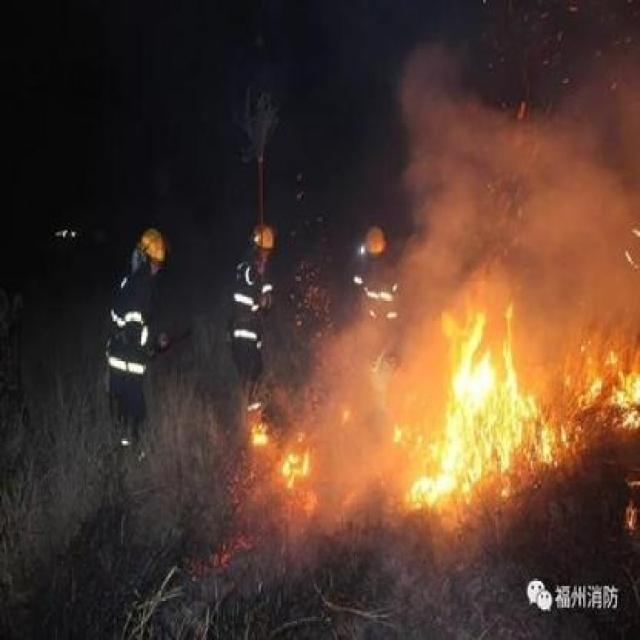Fire: (391, 299, 559, 525), (239, 402, 313, 500)
